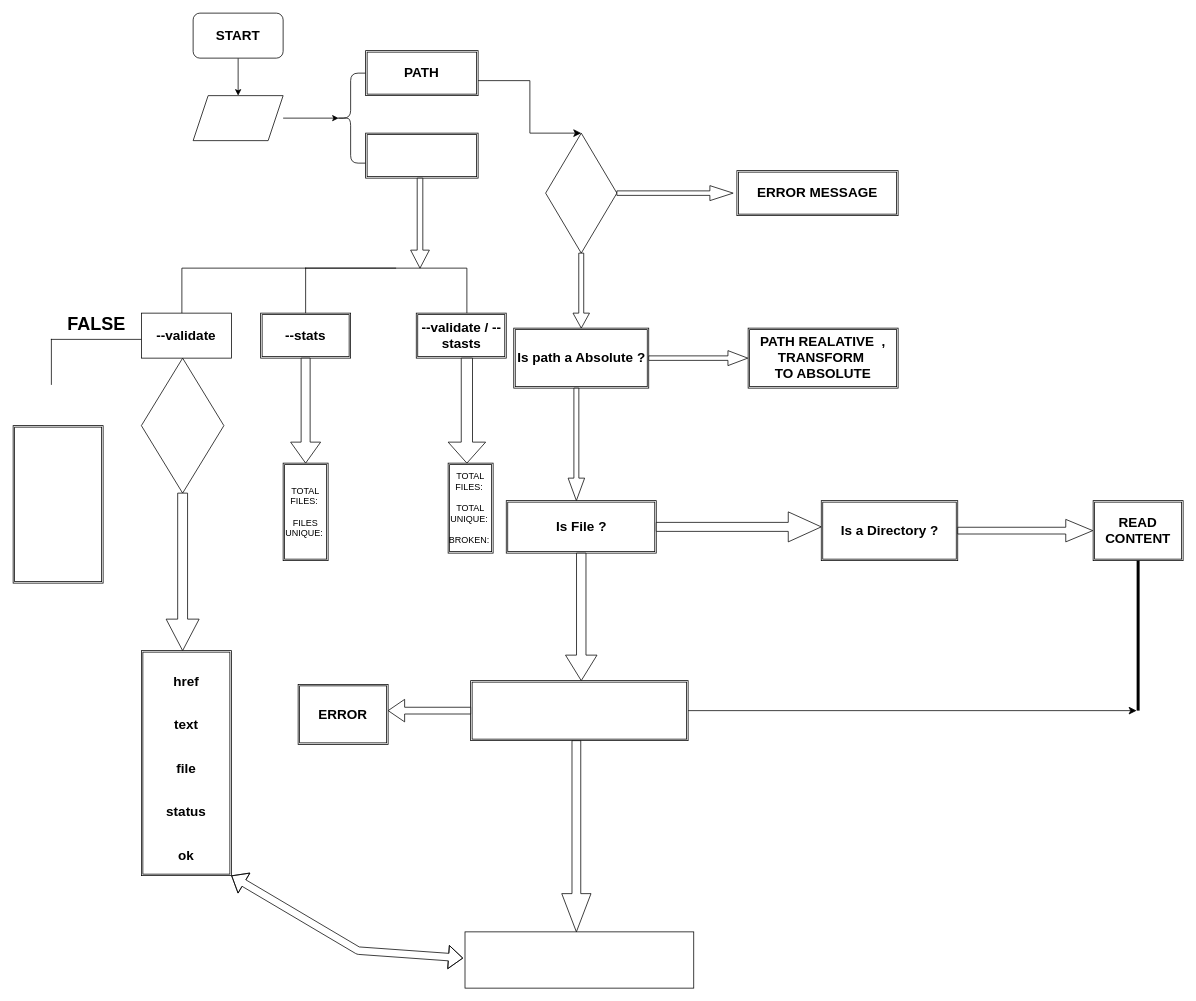
Image size: 1196x1001. Some labels were removed from this diagram. Each missing label, with the box of its shape:
Exit to path ?: (545, 132, 617, 253)
EXTENSION .MD ?: (470, 680, 688, 741)
HREF TEXT FILE: (12, 425, 103, 583)
INPUT: (192, 95, 283, 141)
IS TRUE ?: (141, 357, 224, 493)
OPTION: (365, 132, 478, 178)
RESOLVE: (464, 931, 694, 988)
